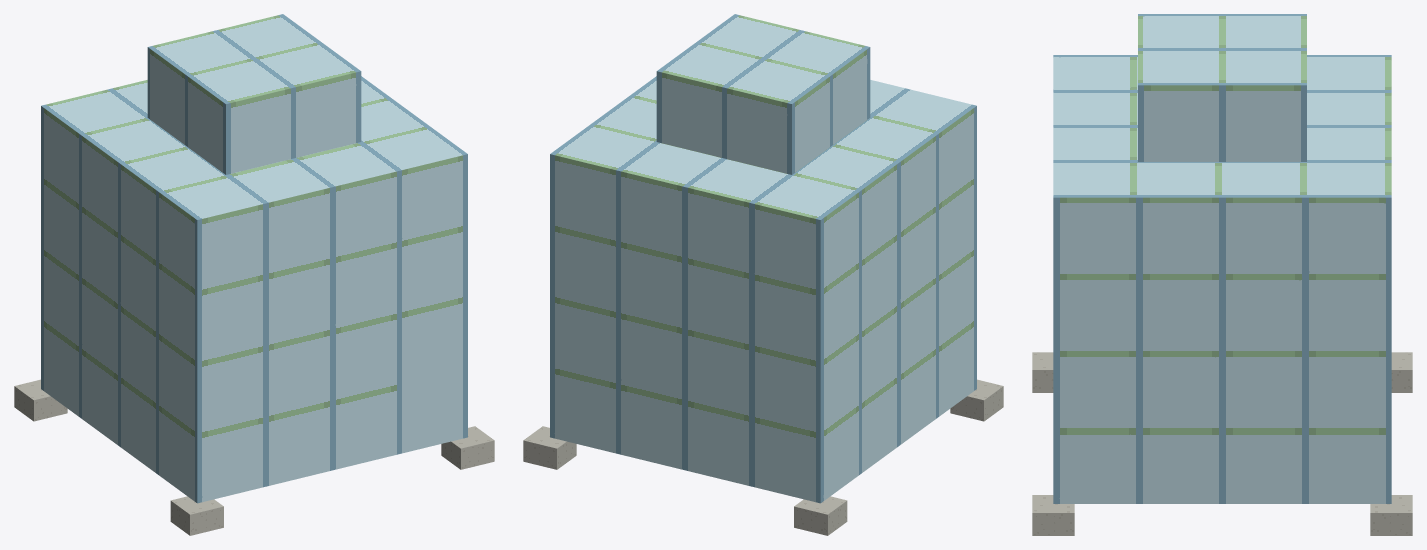
File: 0140_Jungle_Gym.glb
3 renders of one model, left to right at view 1: azimuth 30°, elevation 25°; view 2: azimuth 150°, elevation 25°; view 3: azimuth 270°, elevation 25°, orthographic. The views are drawn at different scales.
Parts seen in each view (by area): view 1: part_0; view 2: part_0; view 3: part_0.
Part boxes in pixels (x1,y1,x2,y2): part_0: [14, 14, 494, 535]; part_0: [523, 14, 1003, 535]; part_0: [1032, 14, 1412, 535].
Bounding box in the file's own units: 2.93 × 3.45 × 2.93.
1 material, 1 textured.
